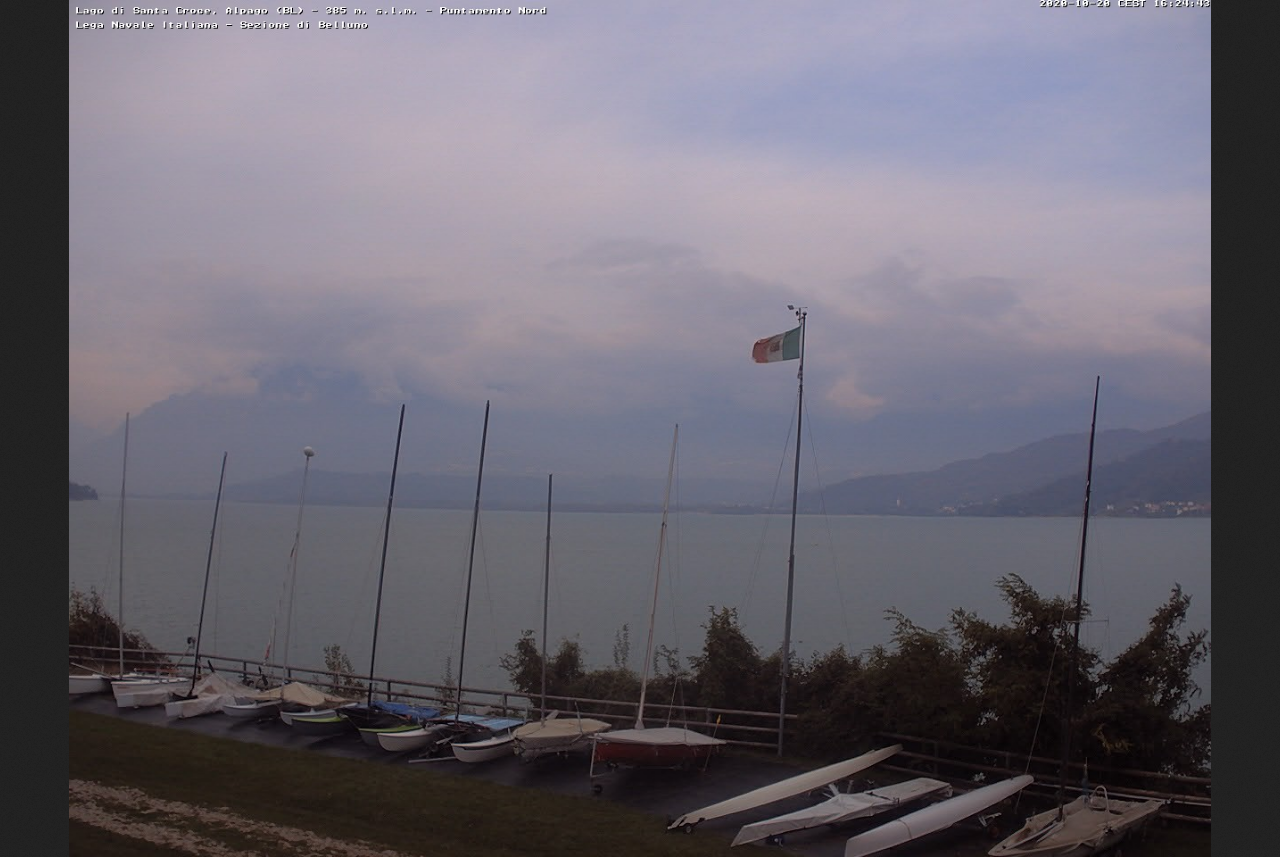yes: (747, 317, 810, 372)
